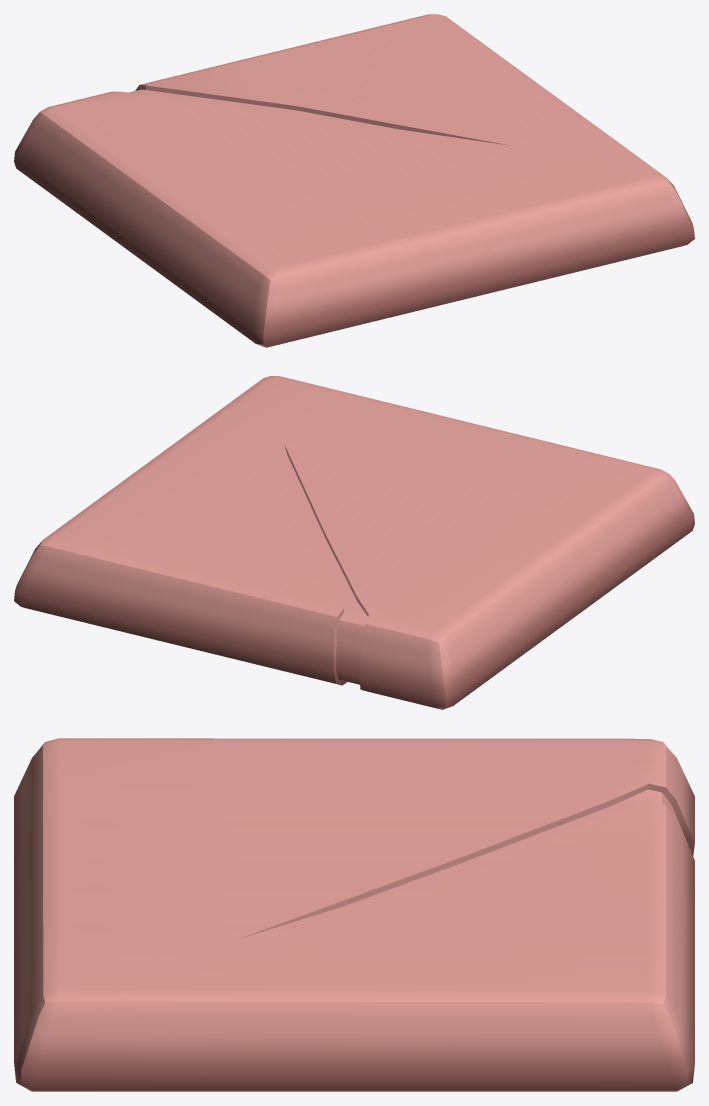
Rendered from SM_Dalle_04.fbx.
3 views of the same model, one above another, from view 1: azimuth 30°, elevation 25°; view 2: azimuth 150°, elevation 25°; view 3: azimuth 270°, elevation 25° (orthographic). The views are drawn at different scales.
Visible parts, largest first — view 1: Dalle_04; view 2: Dalle_04; view 3: Dalle_04.
Boxes of the visible parts, x1=… form: Dalle_04: x1=14, y1=14, x2=694, y2=347; Dalle_04: x1=14, y1=376, x2=694, y2=709; Dalle_04: x1=14, y1=738, x2=694, y2=1091.
Bounding box in the file's own units: 117 × 17.04 × 117.
